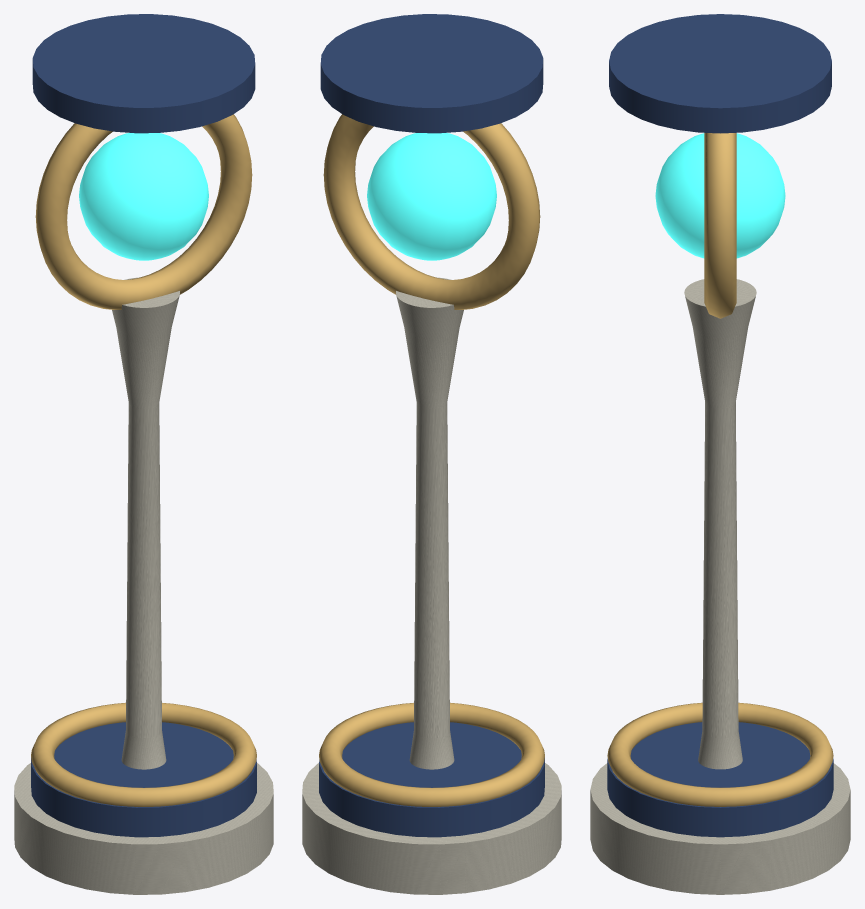
The model's file is arcane-academy-and-spell-trials-arcane-lantern-aee7e6ba__28309.glb.
3 renders of one model, left to right at view 1: azimuth 30°, elevation 25°; view 2: azimuth 150°, elevation 25°; view 3: azimuth 270°, elevation 25°, orthographic.
Visible parts, largest first — view 1: arcane-lantern; view 2: arcane-lantern; view 3: arcane-lantern.
Boxes of the visible parts, x1=… form: arcane-lantern: x1=14, y1=14, x2=273, y2=894; arcane-lantern: x1=302, y1=14, x2=561, y2=894; arcane-lantern: x1=590, y1=14, x2=850, y2=894.
Bounding box in the file's own units: 0.5599 × 1.85 × 0.5599.
4 materials, 1 textured.
